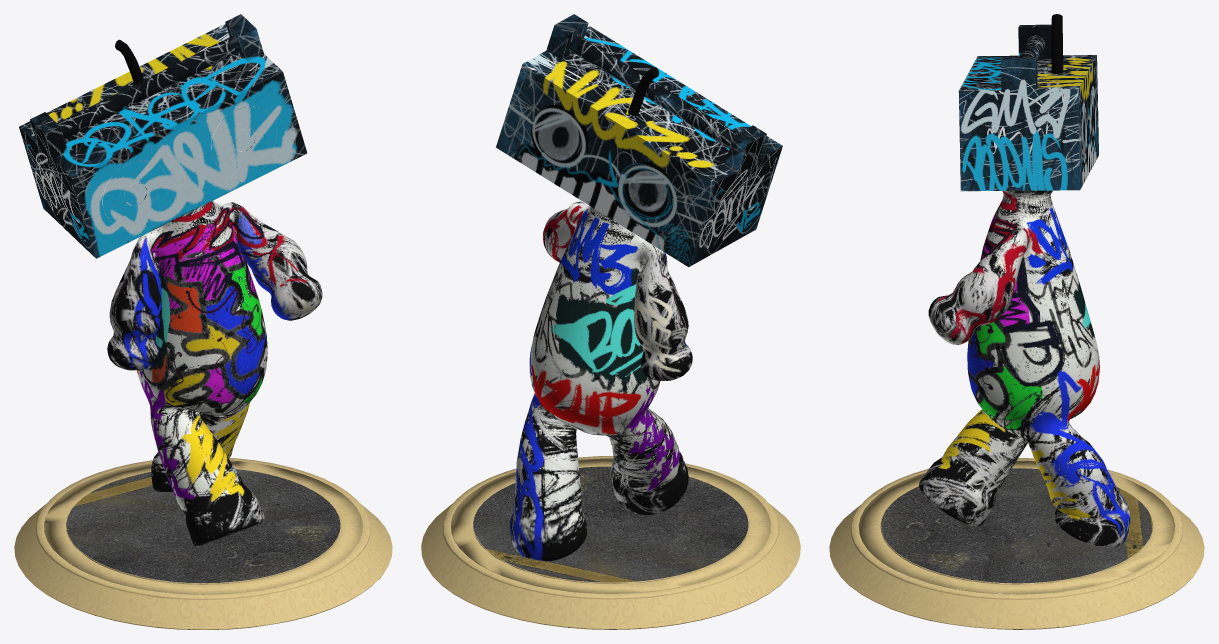
3 renders of one model, left to right at view 1: azimuth 30°, elevation 25°; view 2: azimuth 150°, elevation 25°; view 3: azimuth 270°, elevation 25°, orthographic.
Parts seen in each view (by area): view 1: BBody; view 2: BBody; view 3: BBody.
Boxes of the visible parts, left/top/right/bottom form: BBody: left=14, top=14, right=392, bottom=629; BBody: left=421, top=14, right=800, bottom=629; BBody: left=829, top=14, right=1204, bottom=629.
Bounding box in the file's own units: 1.45 × 2.19 × 1.45.
5 materials, 4 textured.
